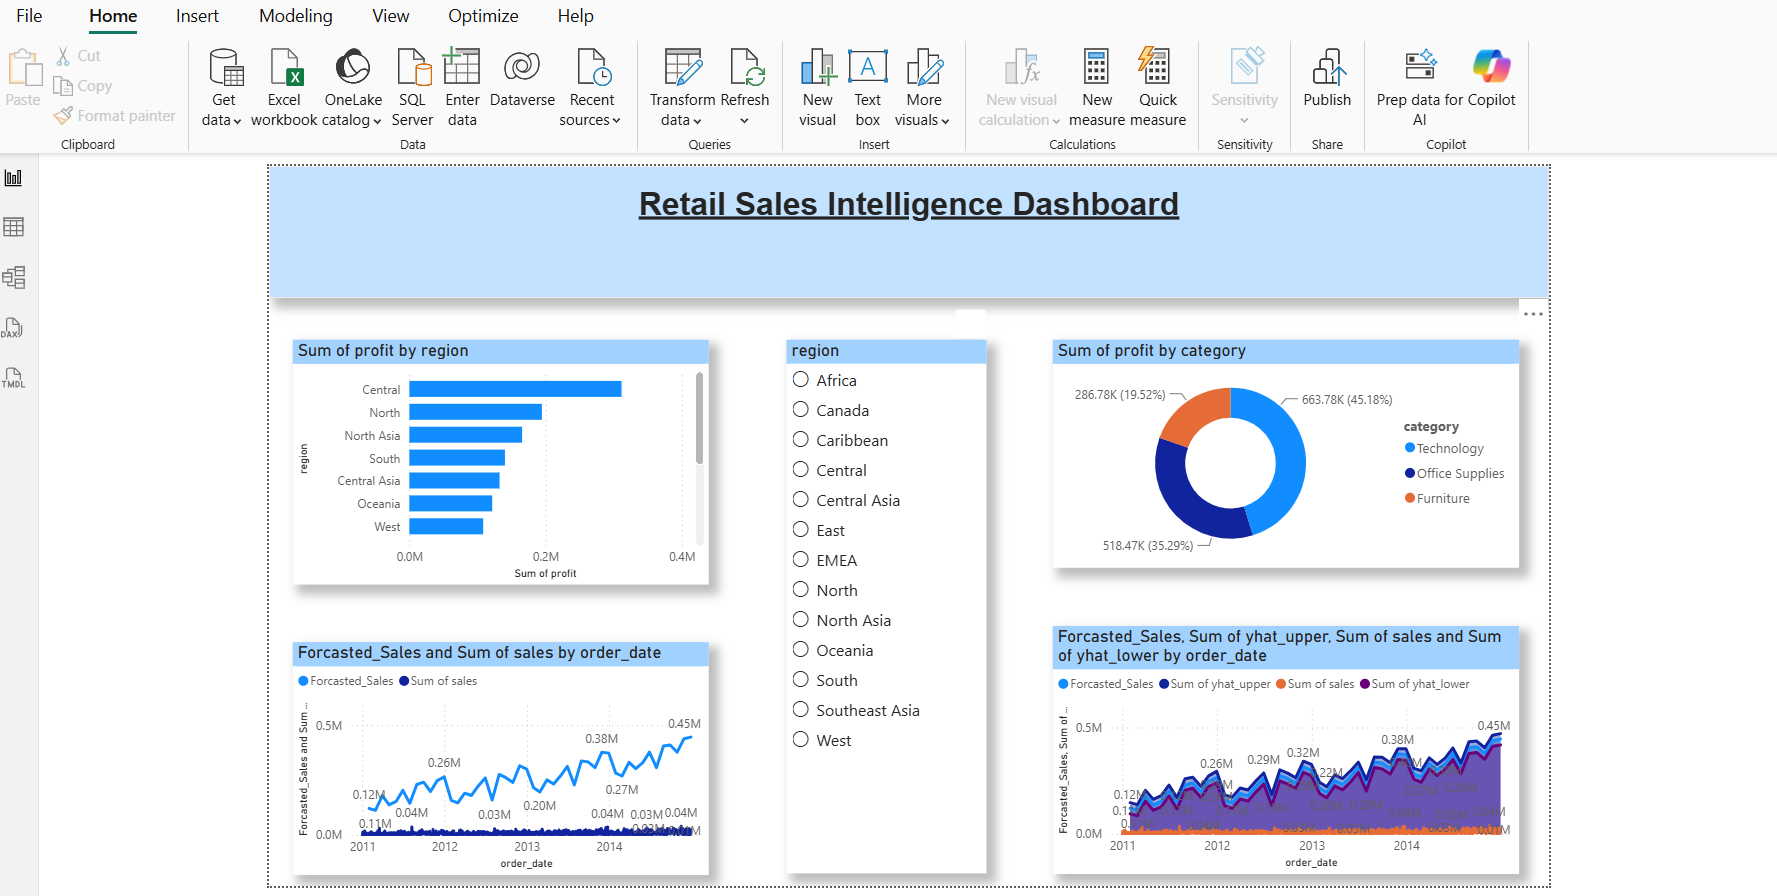

What the dashboard file says about the page in this screenshot:
{"tool":"powerbi","page":{"name":"Page 1","canvas":[1280,720],"ordinal":0},"visuals":[{"type":"clusteredBarChart","fields":{"Category":["cleaned_sales_data.region"],"Y":["Sum(cleaned_sales_data.profit)"]},"box":[23.8,173.8,416.2,245],"z":0},{"type":"lineChart","fields":{"Category":["cleaned_sales_data.order_date.Variation.Date Hierarchy.Year"],"Y":["Sum(forecasted_sales.yhat)","Sum(cleaned_sales_data.sales)"]},"box":[23.6,476.4,416.4,232.7],"z":1000},{"type":"donutChart","fields":{"Y":["Sum(cleaned_sales_data.profit)"],"Category":["cleaned_sales_data.category"]},"box":[784,174,466,228],"z":2000},{"type":"textbox","box":[0,0,1280,132],"z":4000},{"type":"listSlicer","fields":{"Values":["cleaned_sales_data.region"]},"box":[517.5,173.8,200,533.8],"z":4001},{"type":"lineChart","fields":{"Category":["cleaned_sales_data.order_date.Variation.Date Hierarchy.Year"],"Y":["Sum(forecasted_sales.yhat)","Sum(forecasted_sales.yhat_upper)","Sum(cleaned_sales_data.sales)","Sum(forecasted_sales.yhat_lower)"]},"box":[784,460,466,248],"z":4002}]}

Visuals, with their boxes on the page's 1280x720 design canvas (x1, y1, x2, y2). These are canvas units, not pixel positions in the 1777x896 screenshot, which may show the page scaled, cropped or inside an application window:
clusteredBarChart - cleaned_sales_data.region x Sum(cleaned_sales_data.profit): {"left": 24, "top": 174, "right": 440, "bottom": 419}
lineChart - cleaned_sales_data.order_date.Variation.Date Hierarchy.Year x Sum(forecasted_sales.yhat): {"left": 24, "top": 476, "right": 440, "bottom": 709}
donutChart - Sum(cleaned_sales_data.profit) x cleaned_sales_data.category: {"left": 784, "top": 174, "right": 1250, "bottom": 402}
textbox: {"left": 0, "top": 0, "right": 1280, "bottom": 132}
listSlicer - cleaned_sales_data.region: {"left": 518, "top": 174, "right": 718, "bottom": 708}
lineChart - cleaned_sales_data.order_date.Variation.Date Hierarchy.Year x Sum(forecasted_sales.yhat): {"left": 784, "top": 460, "right": 1250, "bottom": 708}
